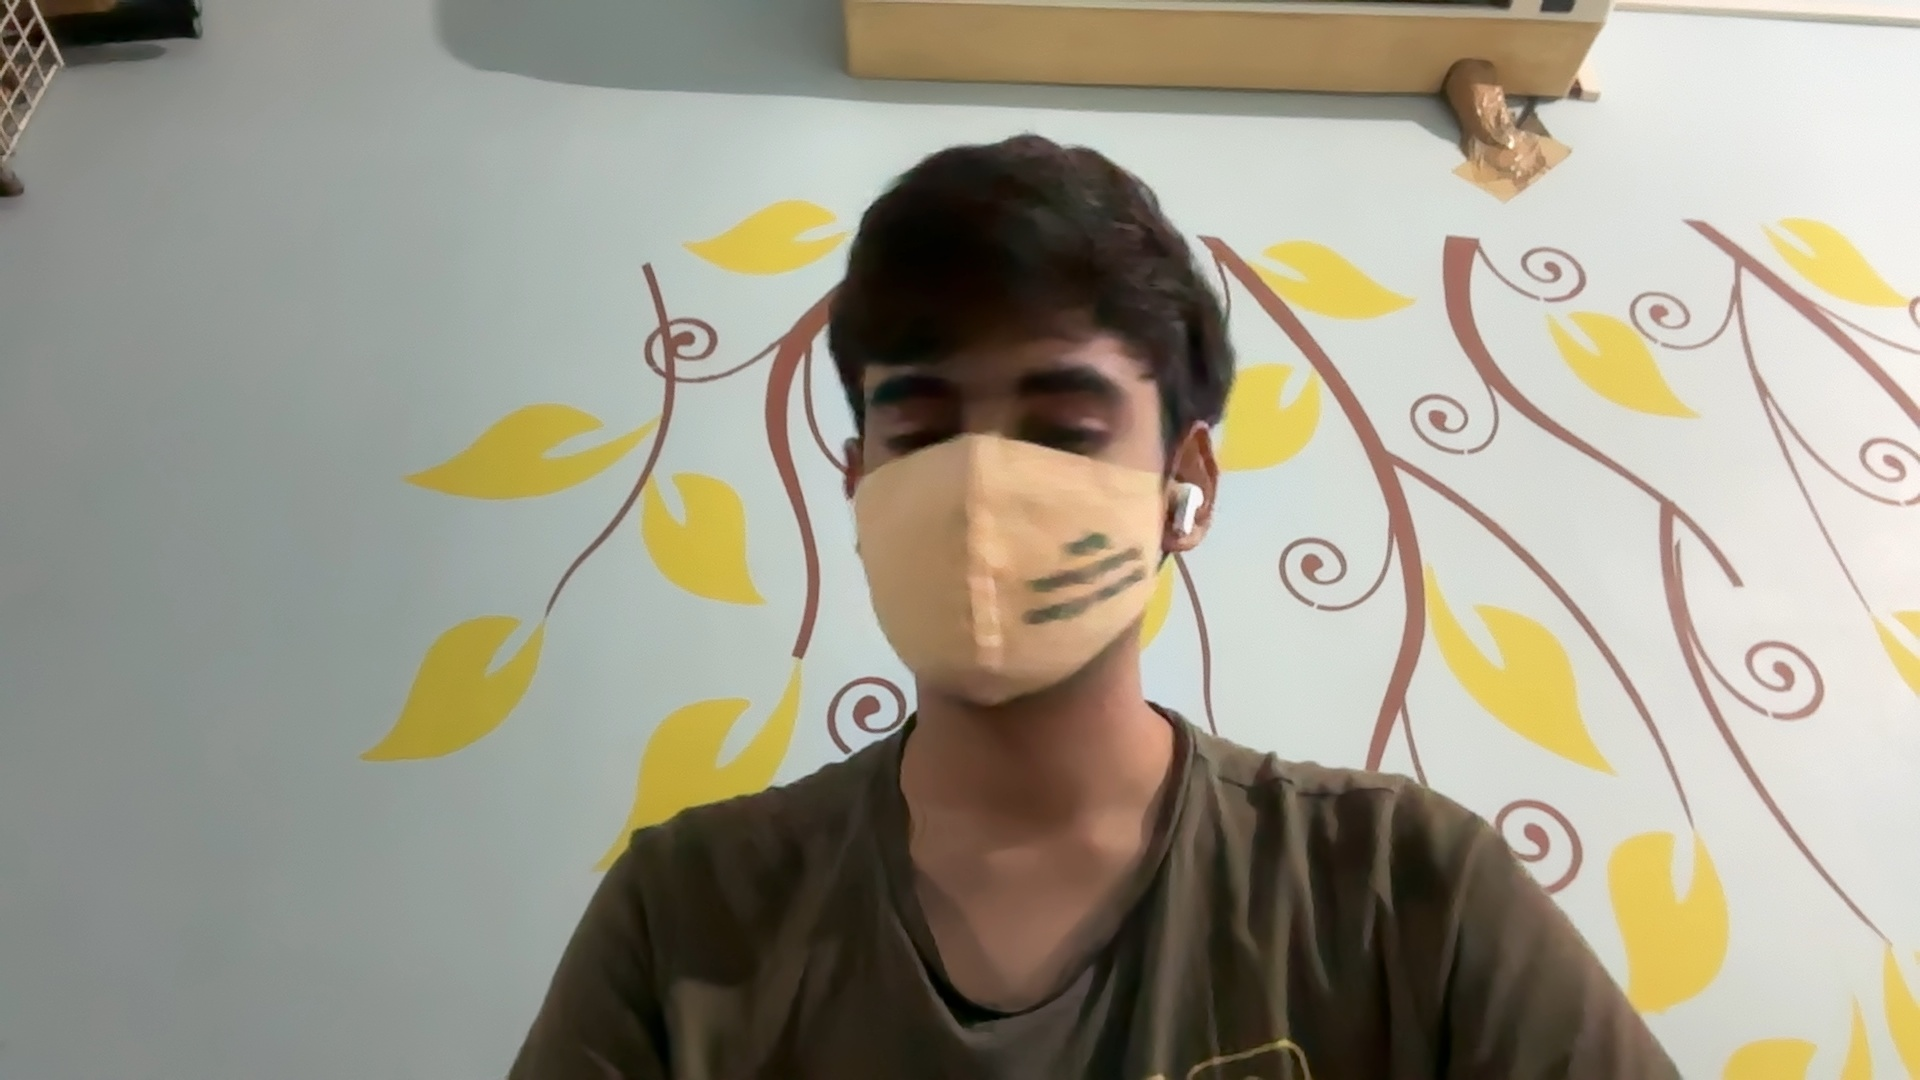Mask: (839, 442, 1170, 717)
